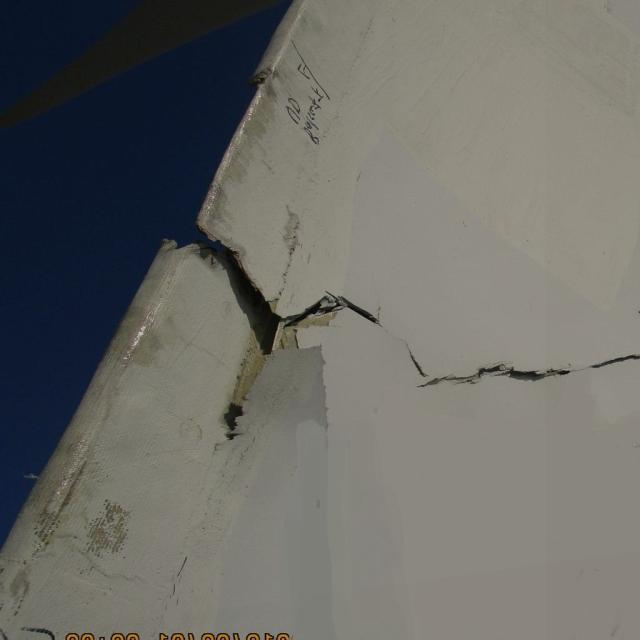crack: (150, 204, 392, 462), (406, 336, 640, 387)
